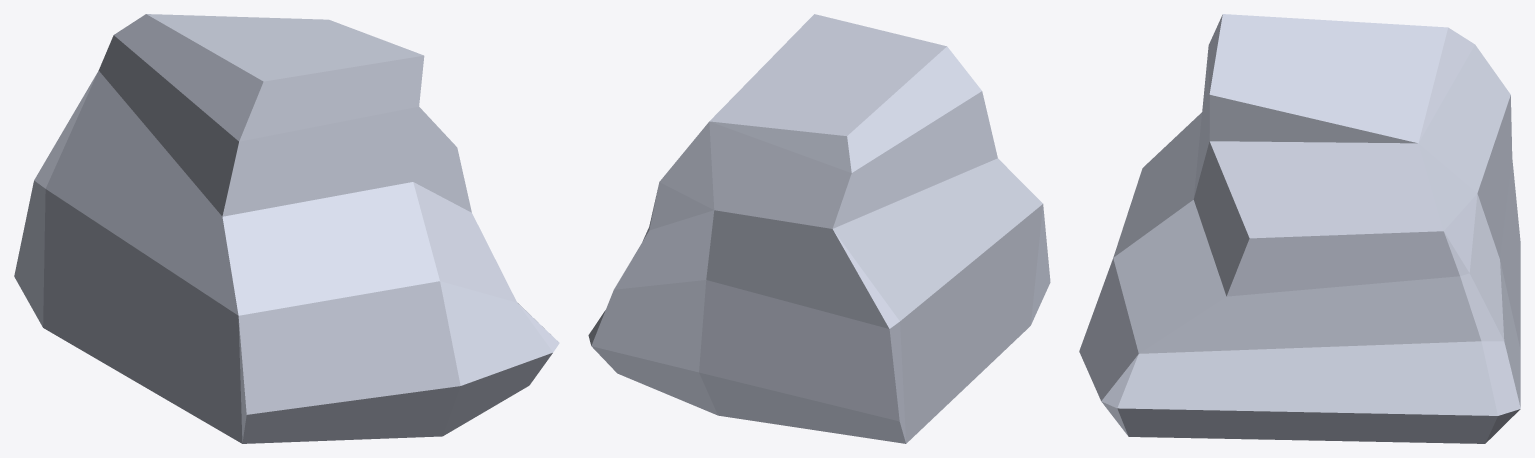
The model's file is rock_3.glb.
3 views of the same model, side by side, from view 1: azimuth 30°, elevation 25°; view 2: azimuth 150°, elevation 25°; view 3: azimuth 270°, elevation 25° (orthographic). The views are drawn at different scales.
Visible parts, largest first — view 1: Rock_3; view 2: Rock_3; view 3: Rock_3.
Part boxes in pixels (bbox=[...]): Rock_3: bbox=[14, 14, 559, 443]; Rock_3: bbox=[588, 14, 1050, 443]; Rock_3: bbox=[1079, 14, 1520, 443].
Bounding box in the file's own units: 0.7384 × 0.676 × 0.8026.
